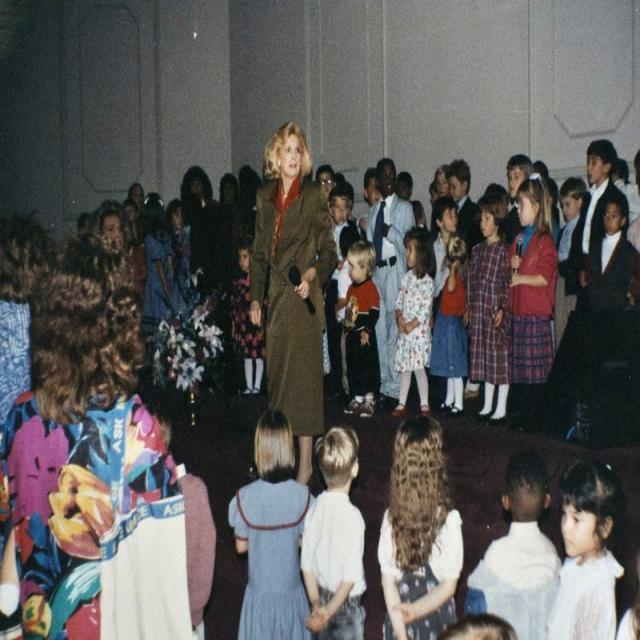body: (1, 238, 191, 639), (0, 212, 96, 639), (248, 121, 339, 490), (225, 407, 322, 639), (374, 410, 466, 639), (469, 450, 564, 640), (502, 170, 559, 437), (543, 452, 624, 639), (300, 427, 368, 639), (364, 158, 413, 410), (466, 188, 514, 428), (590, 149, 634, 385), (390, 225, 438, 421), (574, 138, 630, 297), (340, 237, 382, 419), (552, 173, 590, 354), (230, 240, 270, 401), (326, 186, 356, 397), (164, 193, 200, 356), (585, 194, 640, 299), (180, 166, 220, 301), (140, 192, 178, 332), (428, 193, 462, 337), (43, 227, 108, 301), (93, 208, 143, 303), (445, 157, 483, 250), (506, 154, 535, 238), (236, 167, 265, 248), (435, 611, 513, 639), (622, 538, 640, 640), (357, 164, 382, 236), (94, 206, 126, 252), (216, 172, 238, 230), (328, 146, 354, 192), (75, 195, 101, 238), (631, 144, 640, 252), (121, 196, 140, 244), (314, 163, 338, 200), (125, 180, 148, 217), (549, 177, 559, 247), (432, 163, 451, 199), (395, 171, 414, 201), (532, 159, 550, 183), (412, 198, 426, 228), (427, 180, 440, 206), (487, 178, 508, 193)
